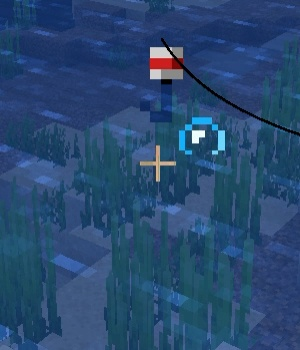up: (137, 36, 191, 121)
